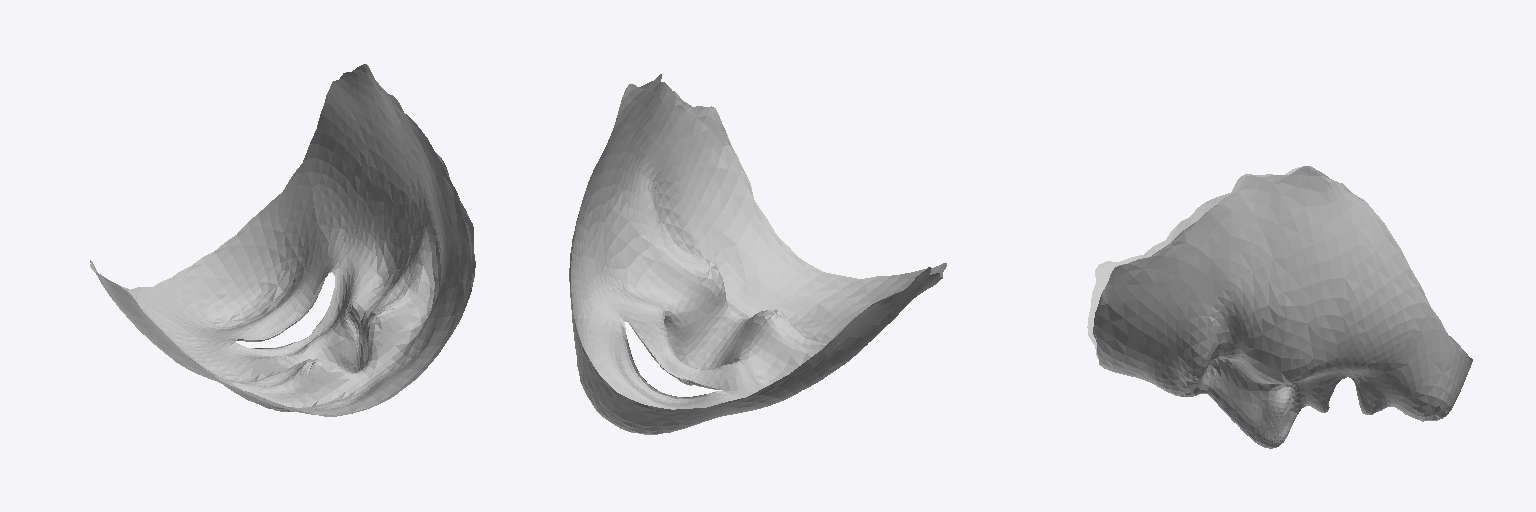
The model's file is face_gab_sfm22.obj.
3 views of the same model, side by side, from view 1: azimuth 30°, elevation 25°; view 2: azimuth 150°, elevation 25°; view 3: azimuth 270°, elevation 25° (orthographic).
Bounding box in the file's own units: 164 × 155 × 179.